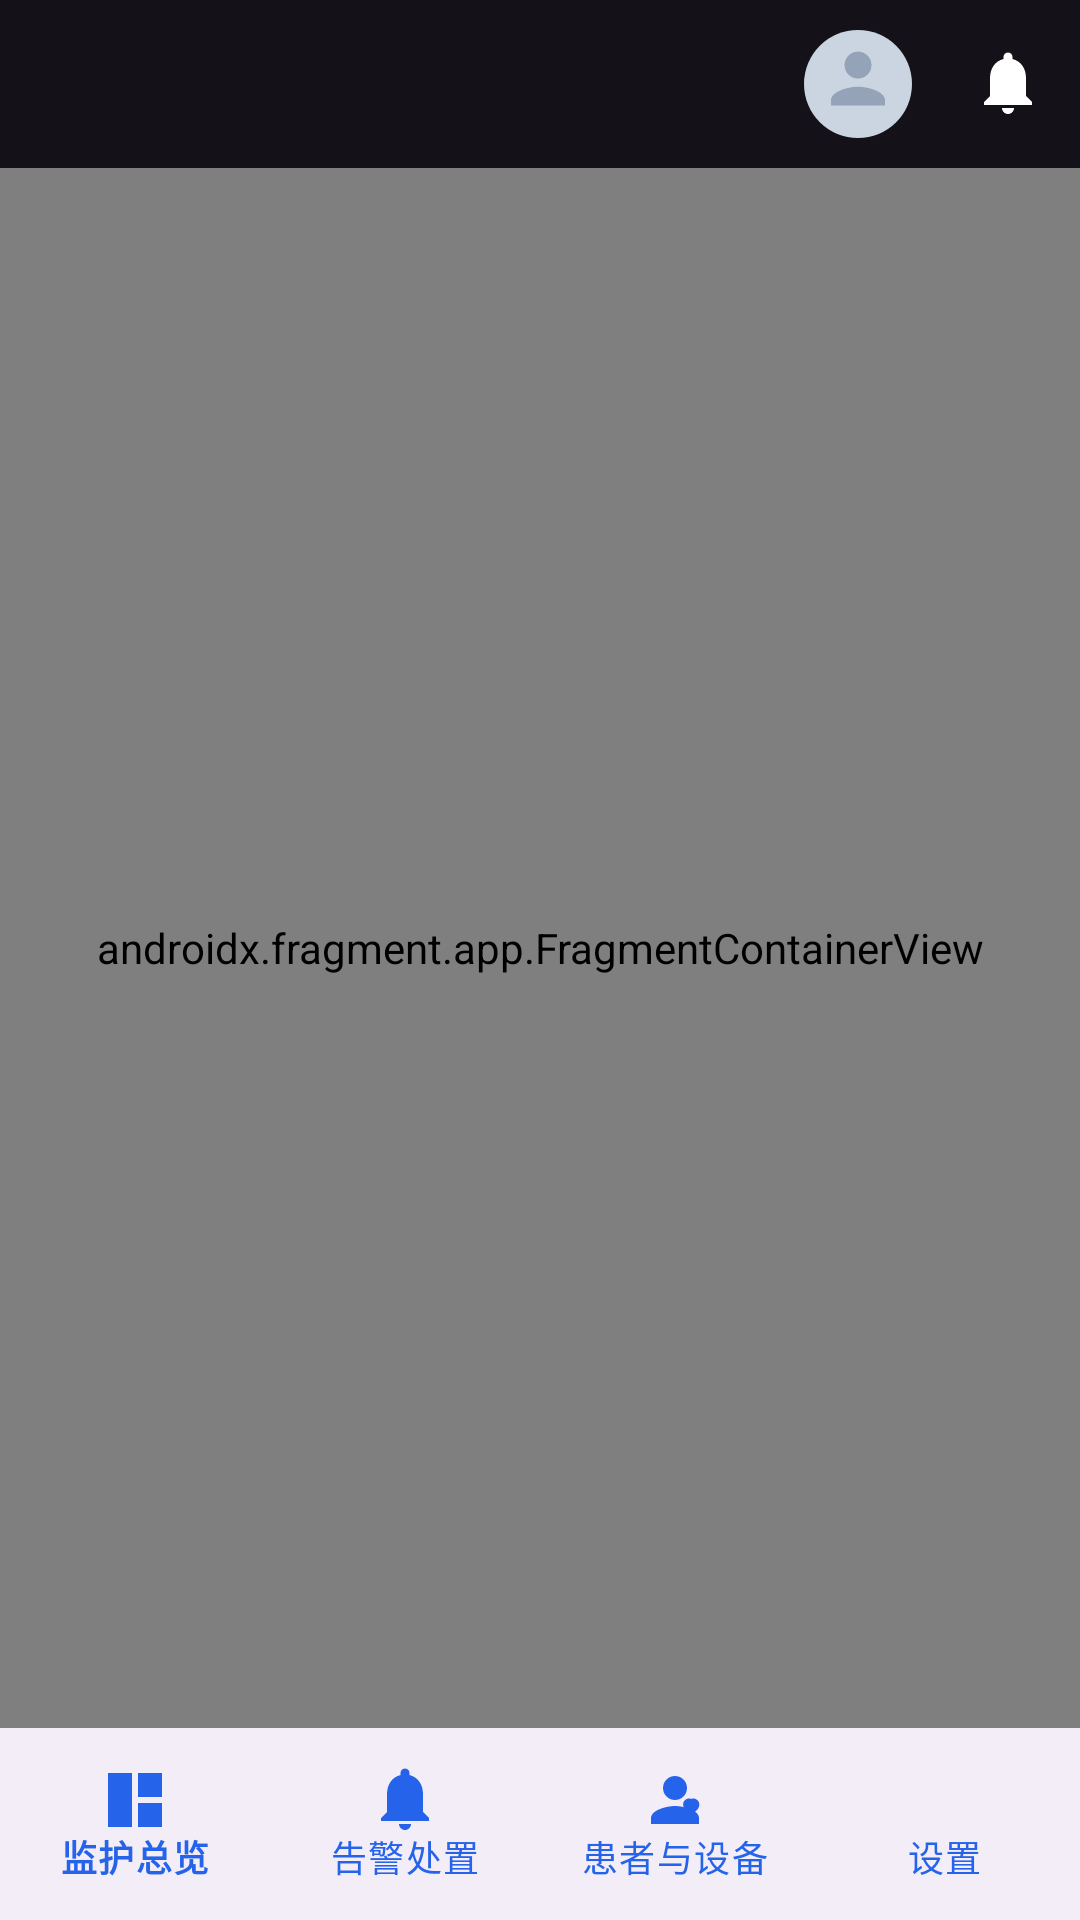

Point at icon controls on the screen. Image size 1080x1920, points as point (x, y).
alarm: point (1008, 83)
